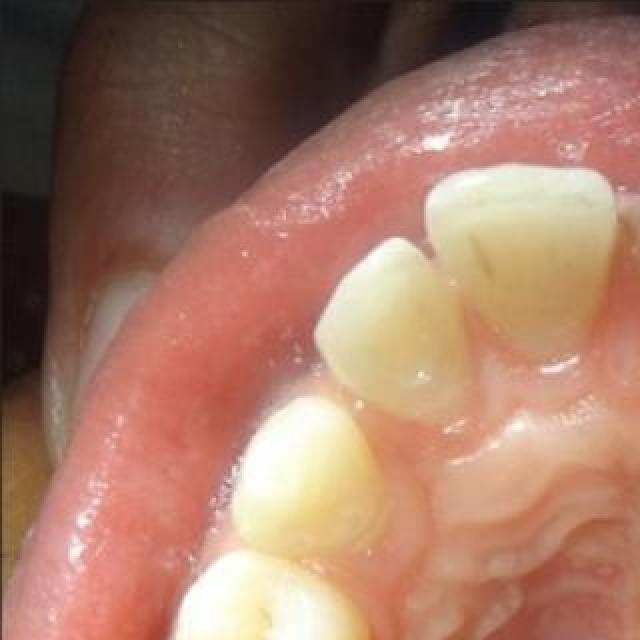spacing: (295, 356, 387, 470), (580, 178, 640, 324), (395, 228, 475, 334)
